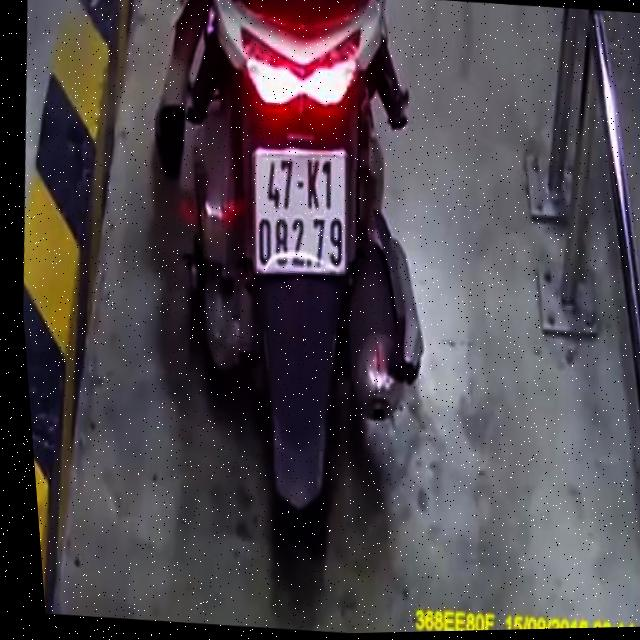motorcycle: (130, 0, 477, 574)
plate: (231, 135, 362, 283)
